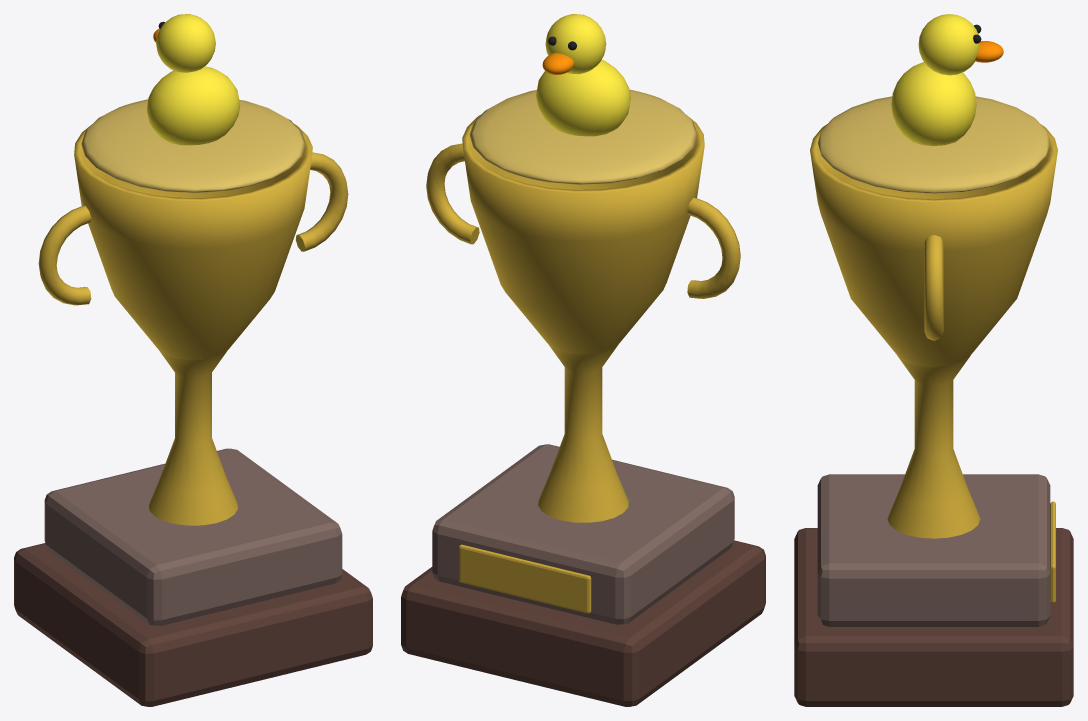
Rendered from trophy.fbx.
3 views of the same model, side by side, from view 1: azimuth 30°, elevation 25°; view 2: azimuth 150°, elevation 25°; view 3: azimuth 270°, elevation 25° (orthographic). The views are drawn at different scales.
Parts seen in each view (by area): view 1: Last Year's Trophy; view 2: Last Year's Trophy; view 3: Last Year's Trophy.
Boxes of the visible parts, x1=… form: Last Year's Trophy: x1=14, y1=14, x2=372, y2=706; Last Year's Trophy: x1=401, y1=14, x2=765, y2=706; Last Year's Trophy: x1=794, y1=14, x2=1073, y2=706.
Size of the model in its own units: 0.95 by 1.81 by 0.72.
